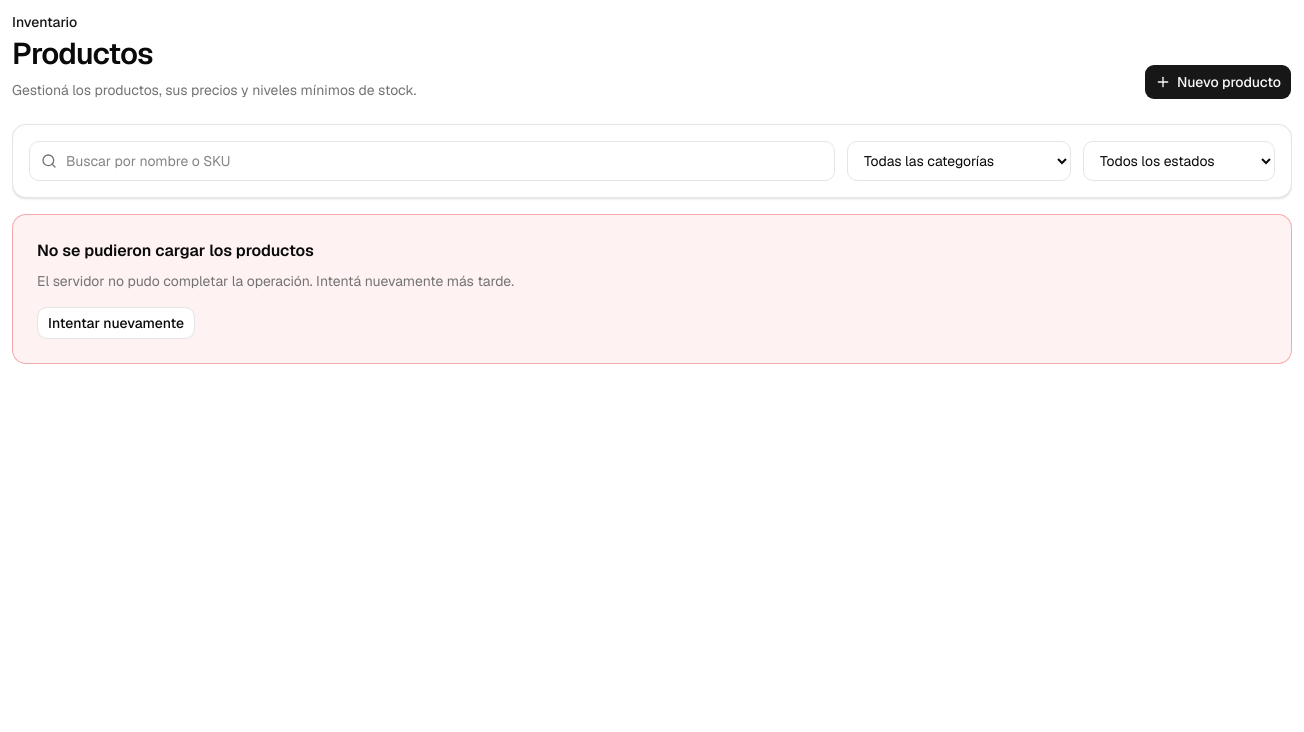
it: ProductsPage › retries the failed product query without refetching categories
The image size is (1304, 732).
Expected: the heading "No se pudieron cargar los productos" is shown, [37,240,314,261]
Click the button "Intentar nuevamente".
click(116, 323)  # box [37,307,195,339]
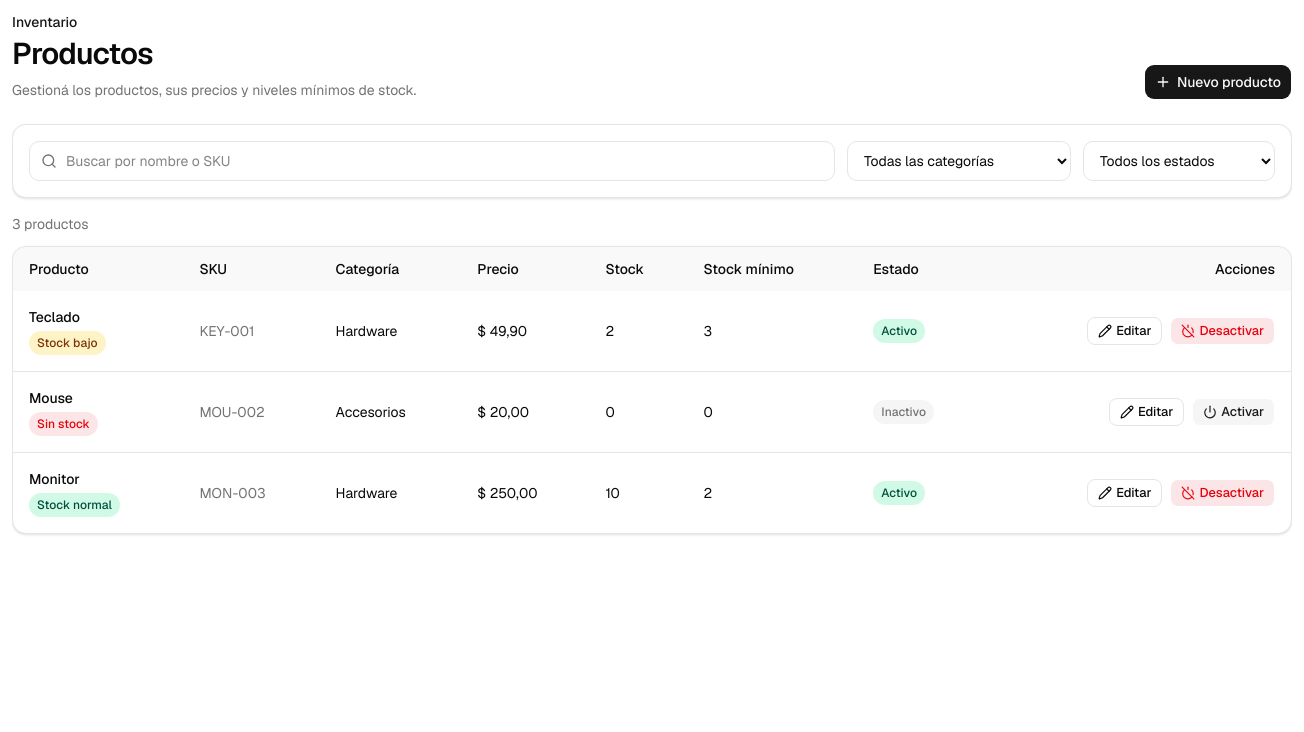
Now the text "Teclado" is shown 2 times
